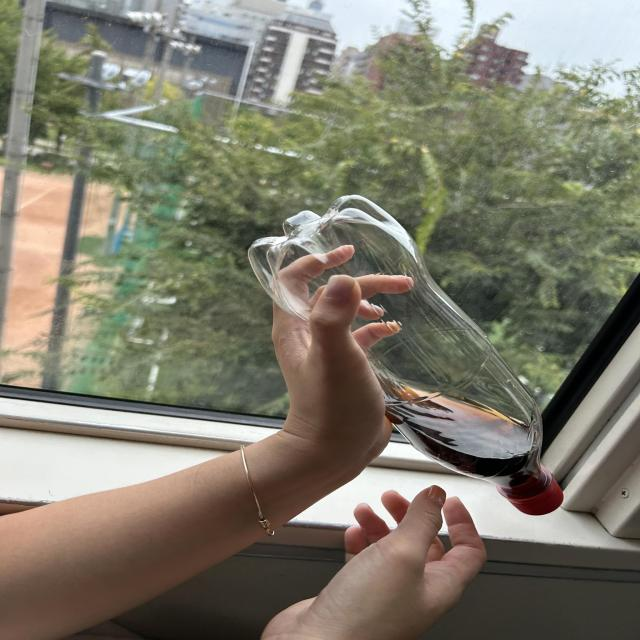low: (249, 195, 562, 515)
